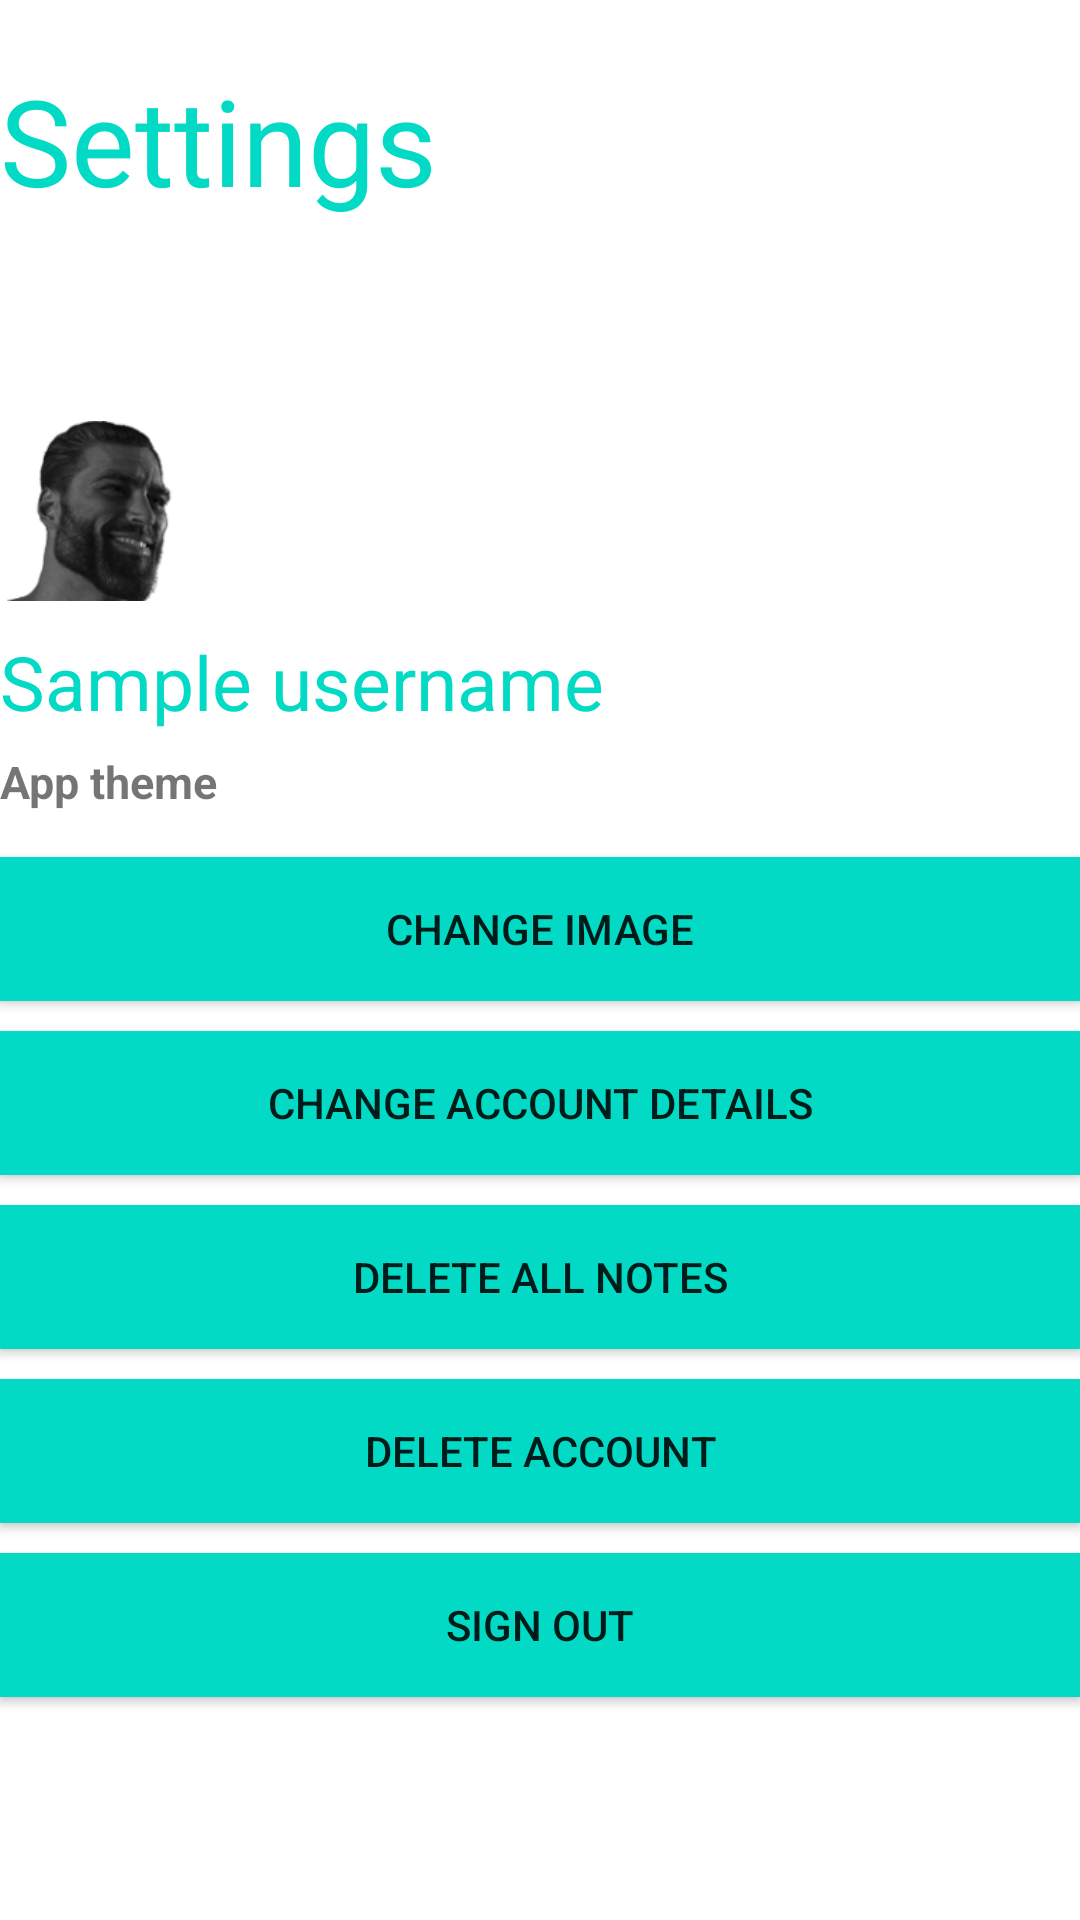

Where to tap for icons on this 1080px×1920px app screen, as point (x, y):
gigachad: point (89, 511)
